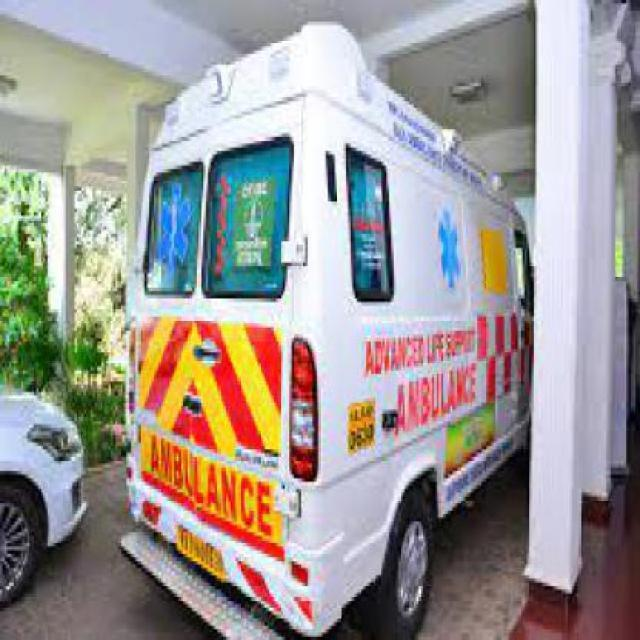Ambulance: (119, 18, 536, 637), (0, 438, 535, 638), (0, 388, 89, 609)
